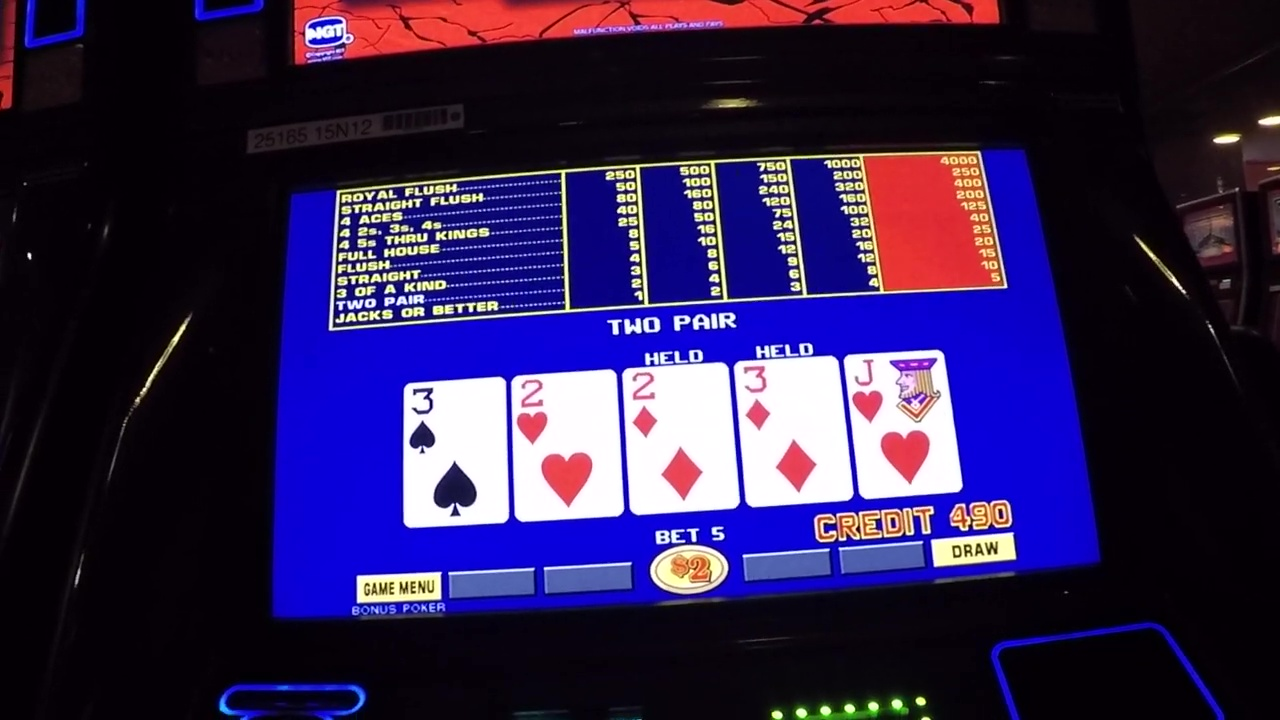D2: (628, 368, 728, 443)
D3: (744, 366, 837, 433)
H2: (514, 375, 616, 449)
HJ: (854, 356, 945, 425)
S3: (409, 383, 505, 458)
